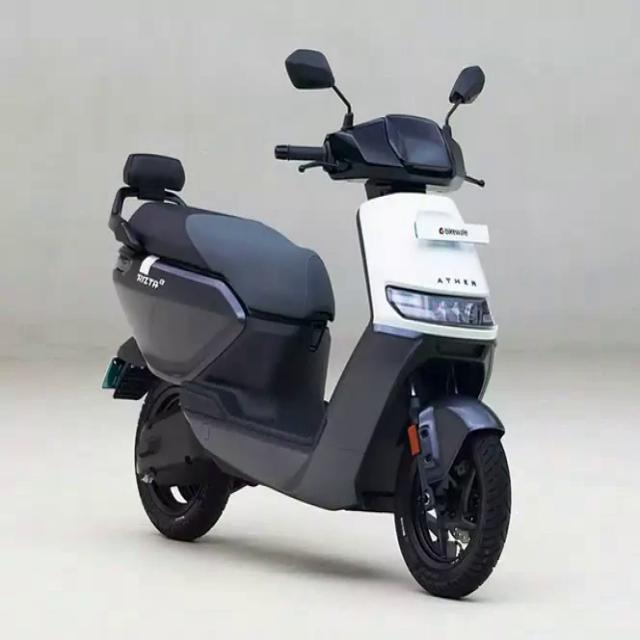objects: (78, 28, 534, 620)
